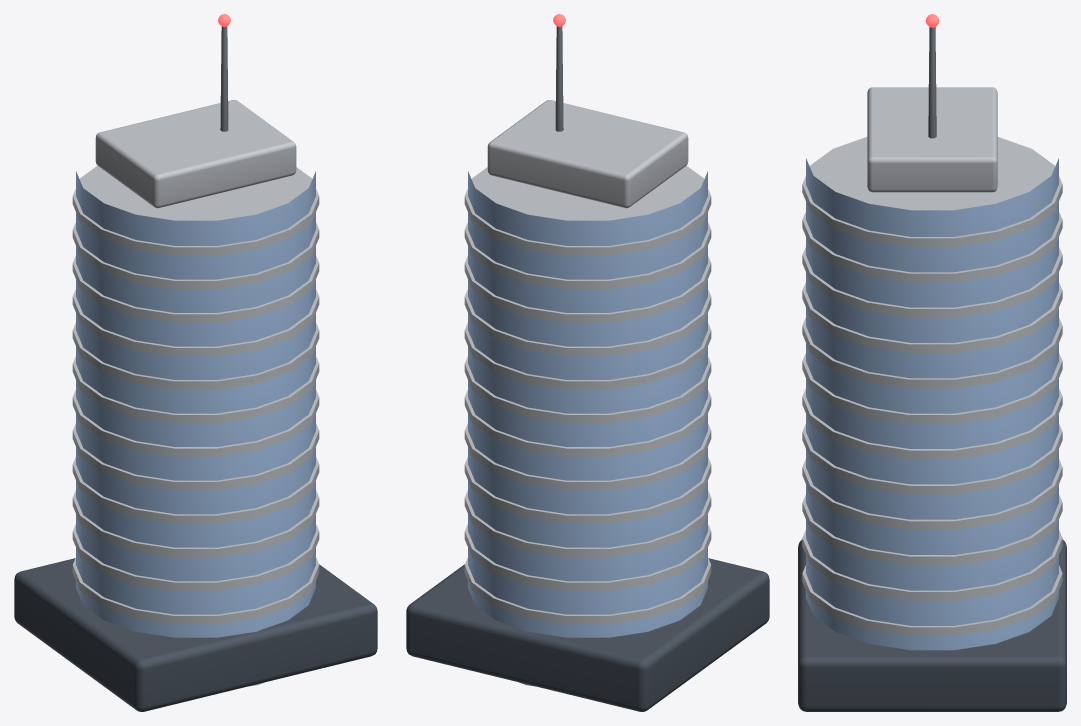
File: office_c.glb
The picture shows the model from 3 angles, left to right: view 1: azimuth 30°, elevation 25°; view 2: azimuth 150°, elevation 25°; view 3: azimuth 270°, elevation 25°; orthographic projection. The views are drawn at different scales.
Visible parts, largest first — view 1: office_body, office_windows; view 2: office_body, office_windows; view 3: office_windows, office_body.
Boxes of the visible parts, x1,y1,x2,y2 form: office_body: (14, 26, 377, 711); office_windows: (76, 171, 315, 637); office_body: (406, 26, 769, 711); office_windows: (468, 171, 707, 637); office_windows: (806, 158, 1058, 650); office_body: (798, 27, 1066, 711).
Bounding box in the file's own units: 6.8 × 16.61 × 6.2.
